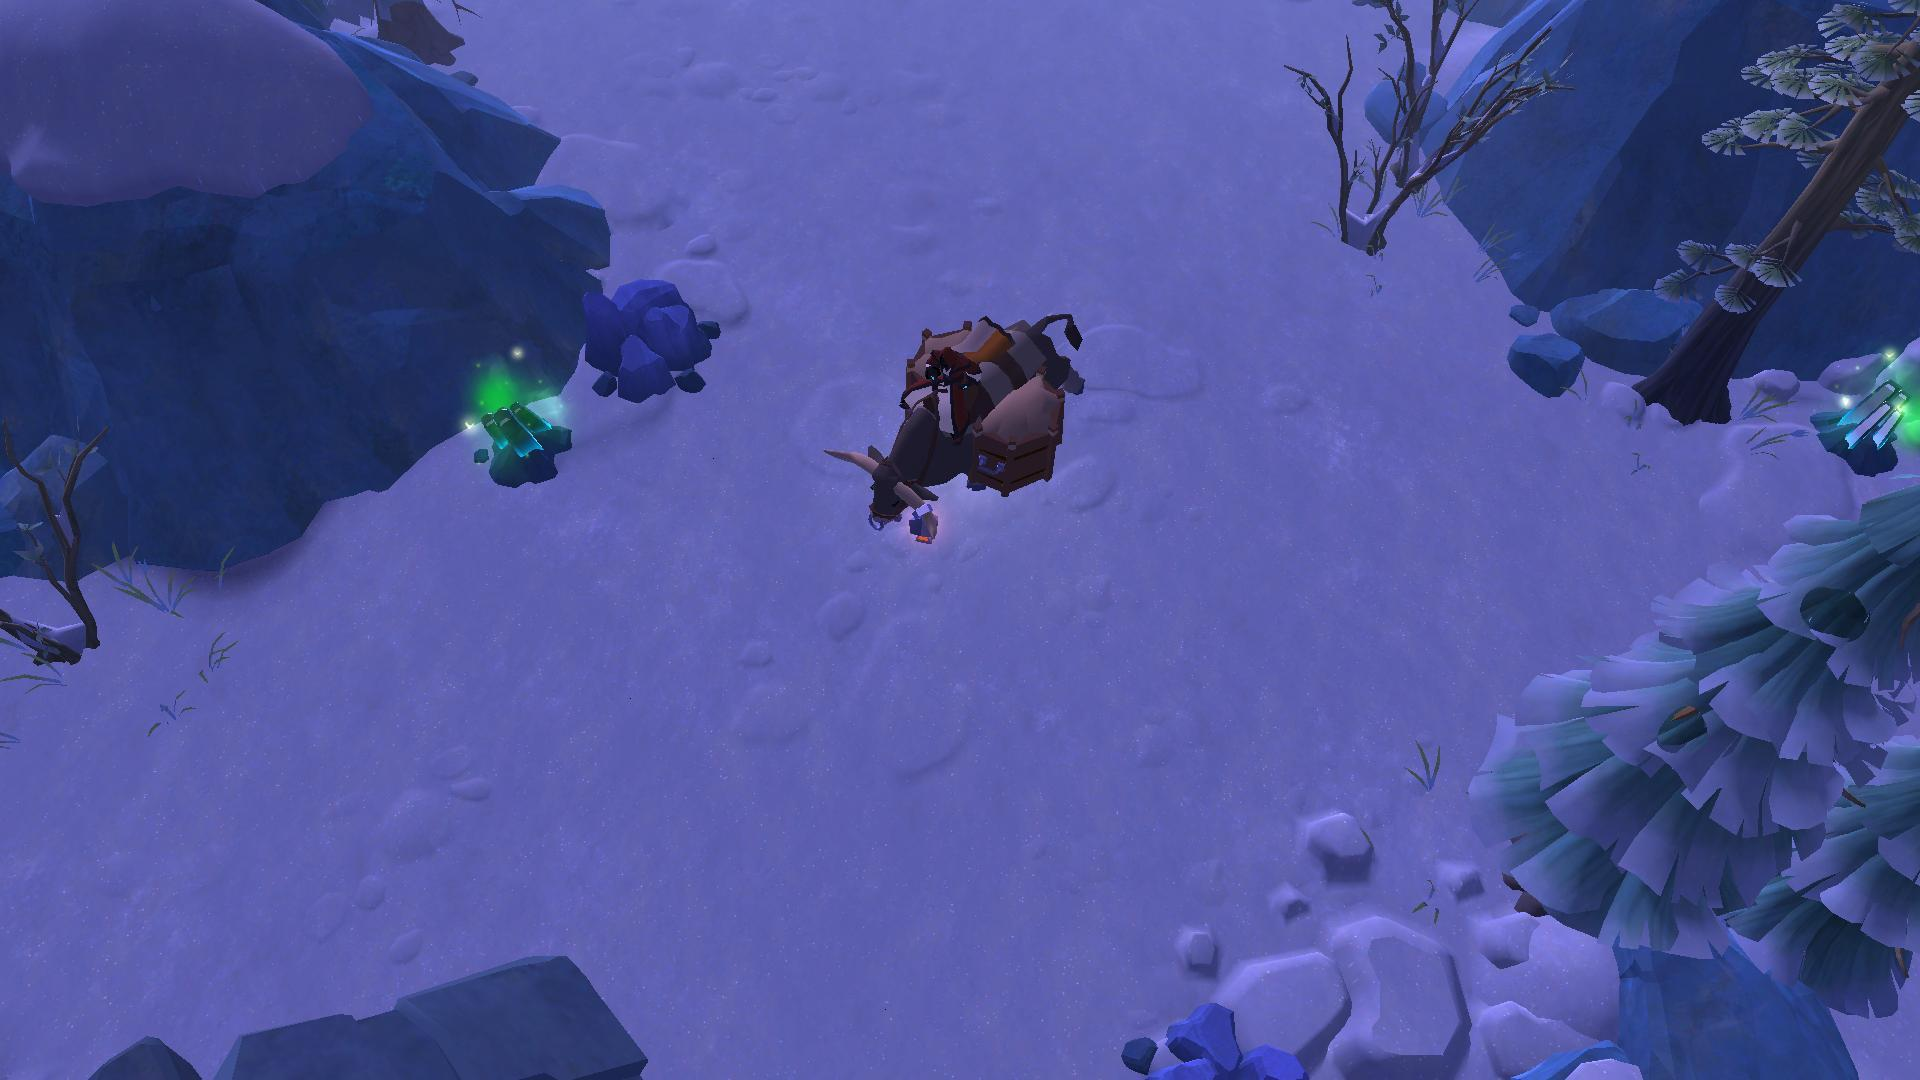ore_t4: (1833, 380, 1911, 459), (475, 400, 554, 469)
rock_t4: (571, 269, 721, 398), (1122, 997, 1313, 1080)
